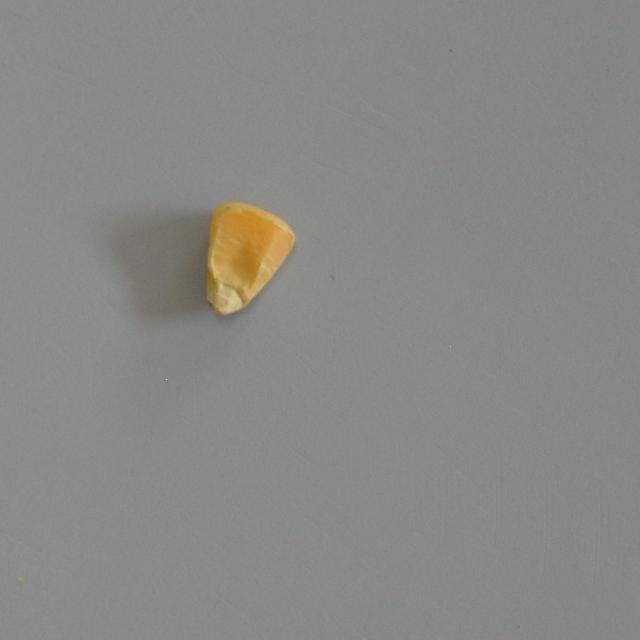entero: (204, 197, 297, 320)
